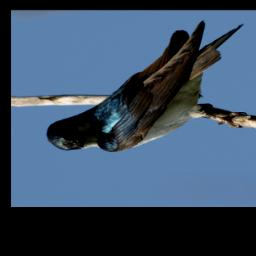Swallow: (45, 16, 256, 154)
